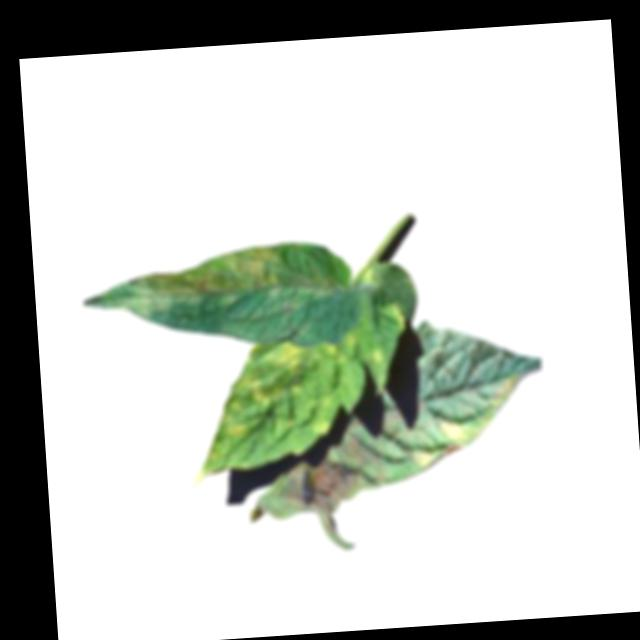Leaf_Mold: (78, 243, 288, 320), (407, 376, 525, 472), (274, 340, 314, 378), (245, 377, 290, 410), (219, 414, 249, 440)
